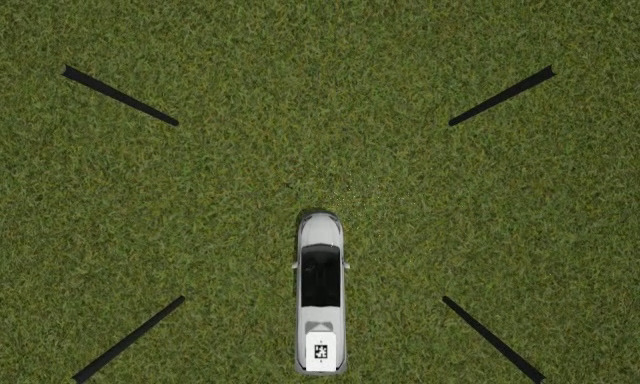Car: (298, 213, 348, 375)
Landing Pad: (306, 332, 337, 373)
